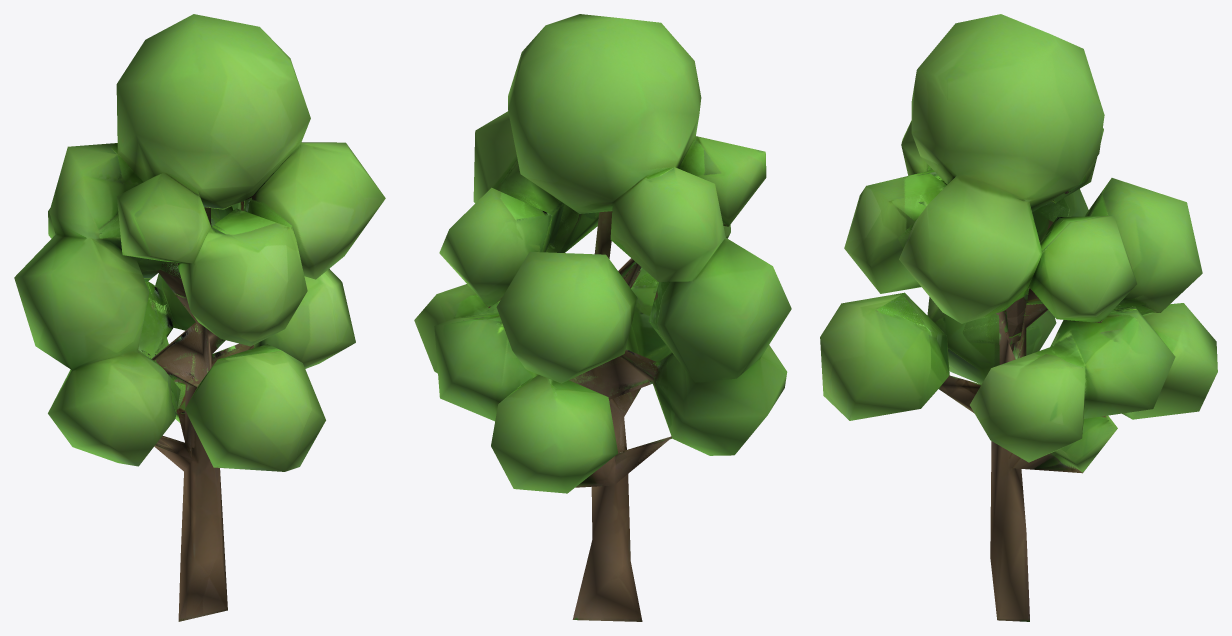
The model's file is low-poly-green-tree.glb.
The picture shows the model from 3 angles, left to right: view 1: azimuth 30°, elevation 25°; view 2: azimuth 150°, elevation 25°; view 3: azimuth 270°, elevation 25°; orthographic projection.
Bounding box in the file's own units: 1.17 × 2 × 1.22.
Materials: 1 (1 with a texture image).
